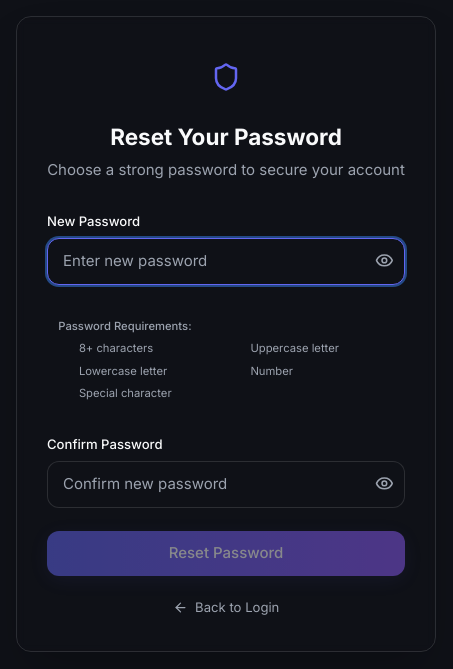
Test: ResetPasswordPage › enables submit button when all requirements are met
The width and height of the screenshot is (453, 669).
In the password field labelled "New Password": [226, 261] box [47,238,405,285], type "StrongPass123!"
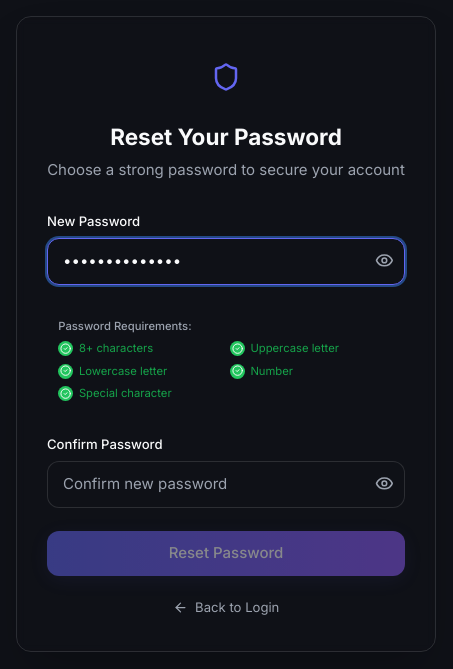
In the password field labelled "Confirm Password": [226, 485] box [47,461,405,508], type "StrongPass123!"
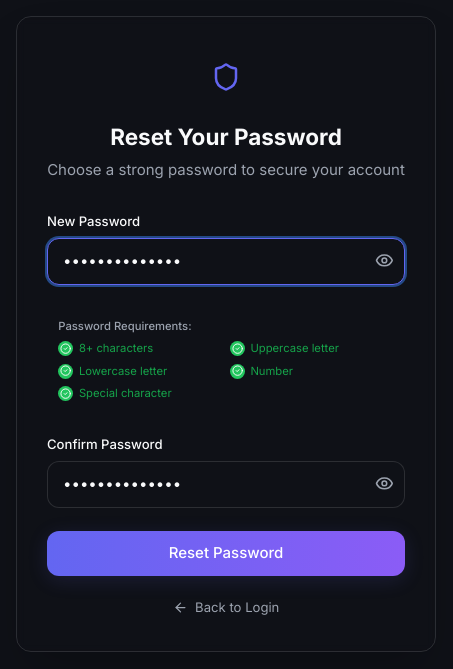
expect the button "Reset Password" is enabled: met, box [47,531,405,576]
